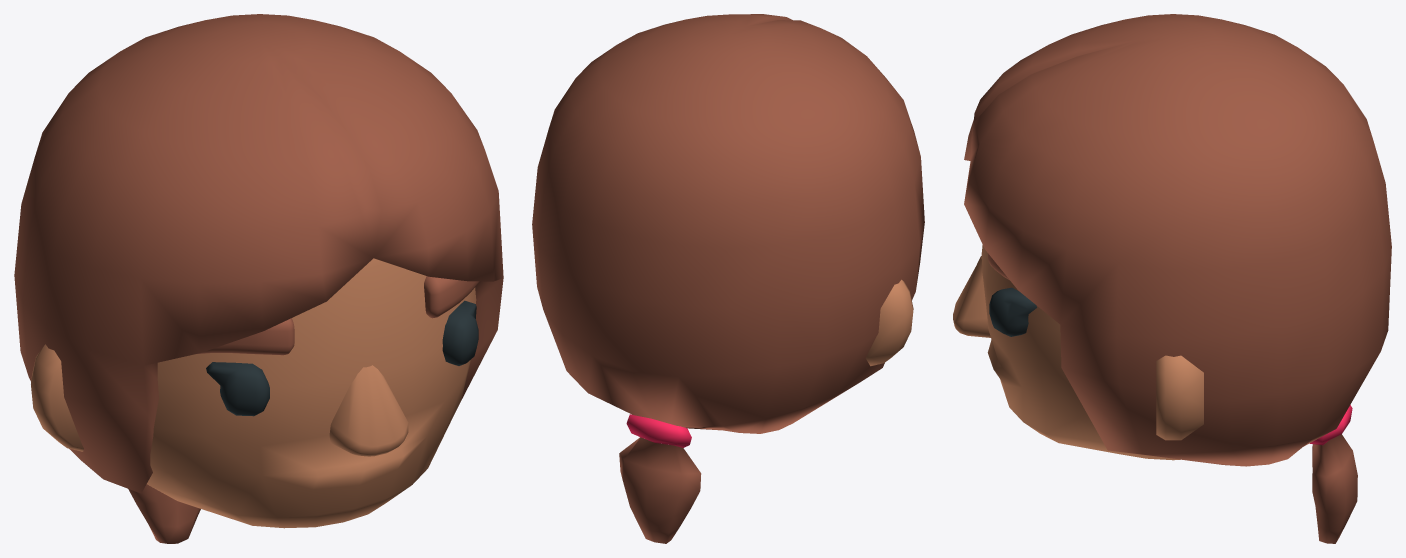
File: kaykit-mageheadb.glb
The picture shows the model from 3 angles, left to right: view 1: azimuth 30°, elevation 25°; view 2: azimuth 150°, elevation 25°; view 3: azimuth 270°, elevation 25°; orthographic projection. The views are drawn at different scales.
Parts seen in each view (by area): view 1: mageHeadB; view 2: mageHeadB, mageHairB; view 3: mageHeadB.
Boxes of the visible parts, x1,y1,x2,y2 form: mageHeadB: [14, 14, 503, 543]; mageHeadB: [532, 14, 924, 543]; mageHairB: [626, 414, 691, 447]; mageHeadB: [953, 14, 1391, 543].
Size of the model in its own units: 1.18 by 1.42 by 1.12.
